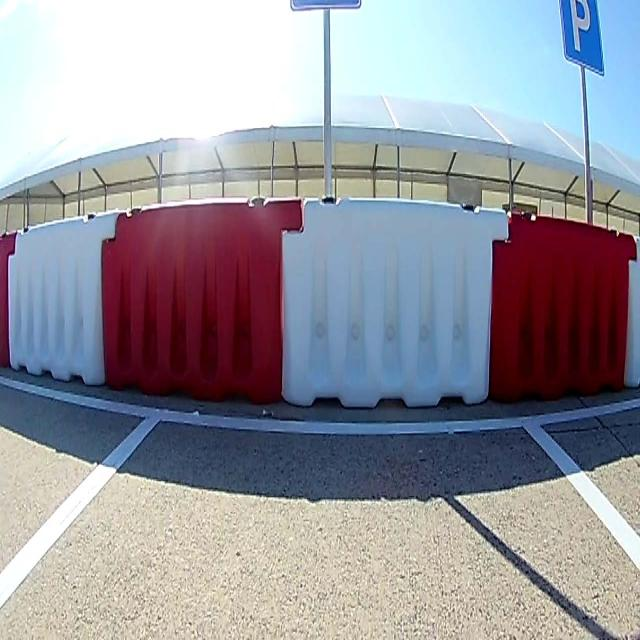park: (560, 1, 604, 74)
